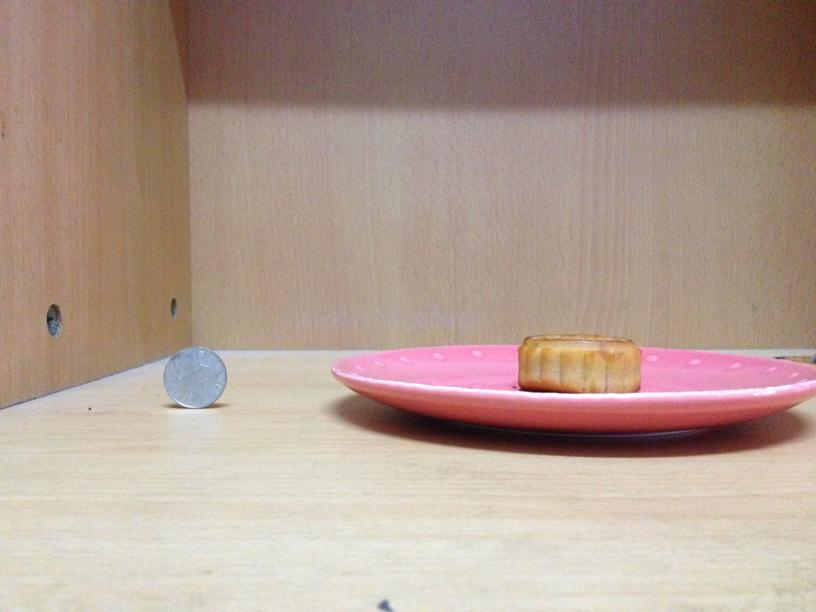coin: (160, 346, 228, 409)
mooncake: (514, 333, 642, 394)
